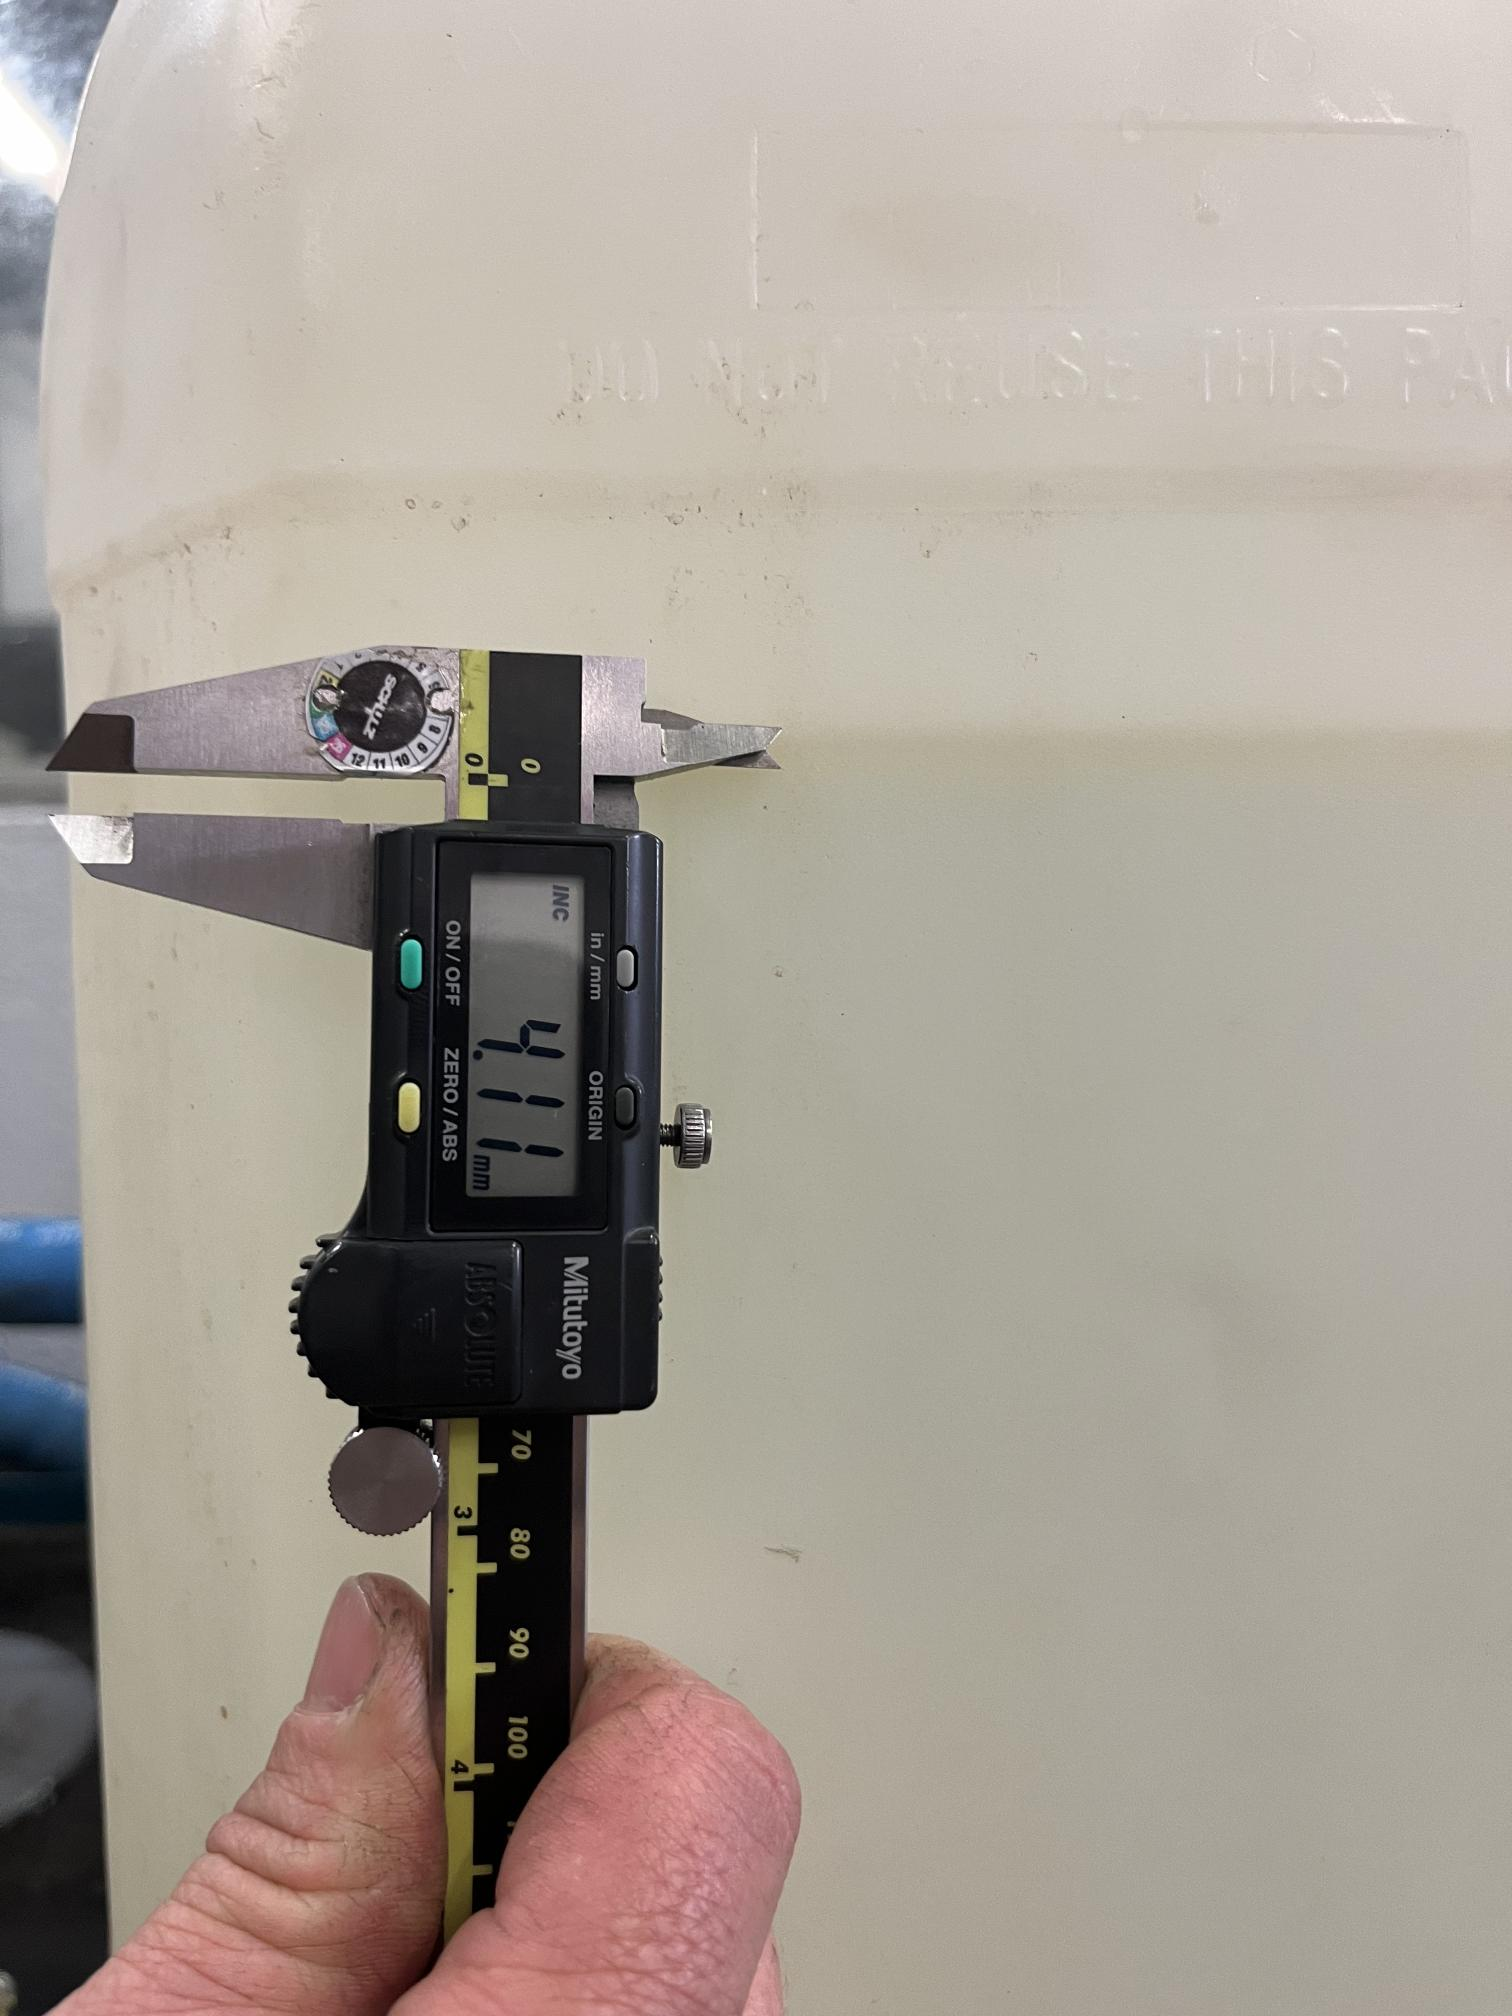Presenca de Oleo - - 20ml: (802, 633, 1468, 838)
